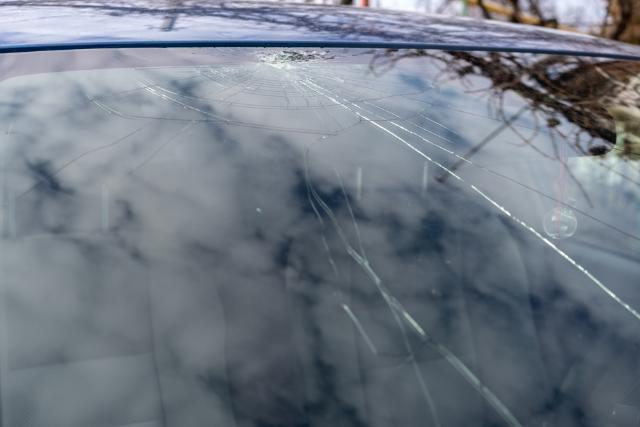Windshield: (120, 35, 640, 406)
